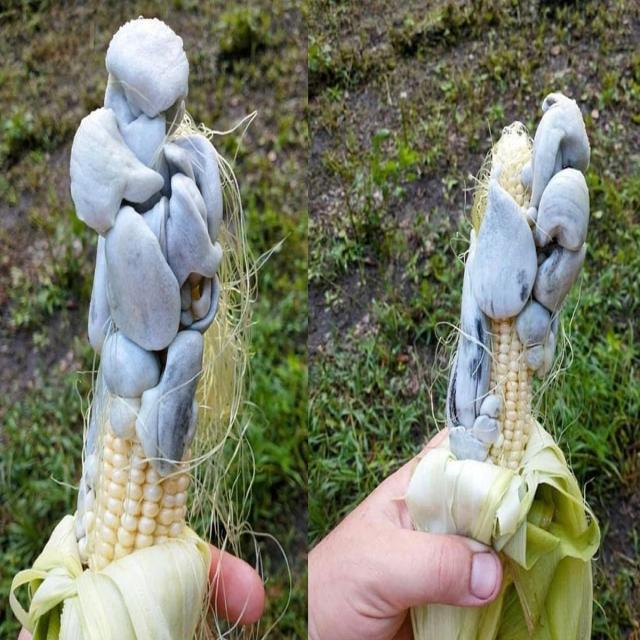Leaf_Scald: (32, 11, 293, 626), (385, 20, 632, 609)
